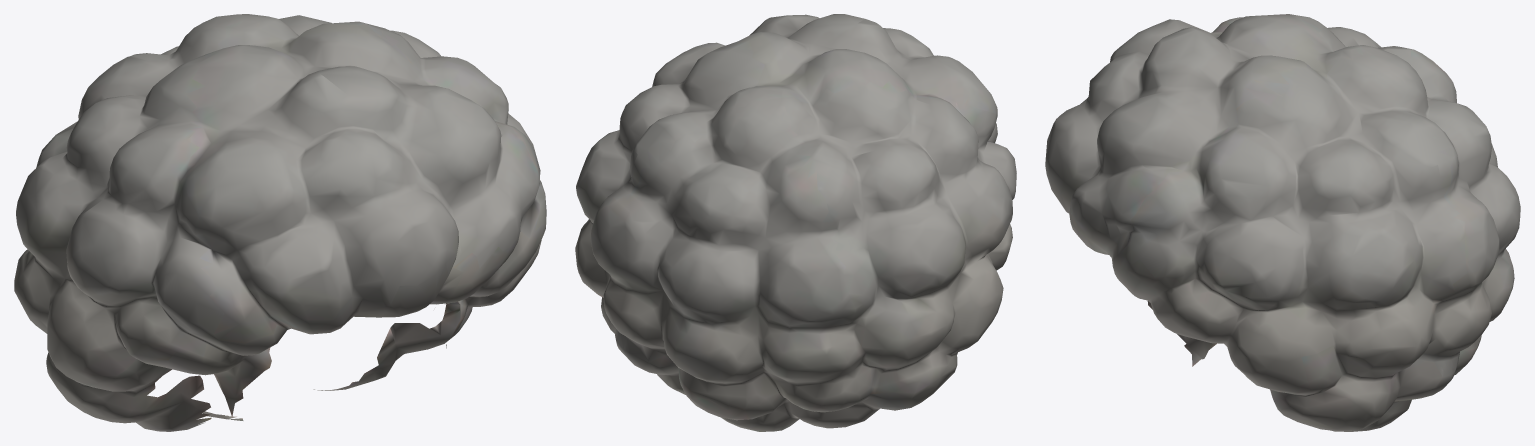
Rendered from hair-m-afro.glb.
The picture shows the model from 3 angles, left to right: view 1: azimuth 30°, elevation 25°; view 2: azimuth 150°, elevation 25°; view 3: azimuth 270°, elevation 25°; orthographic projection. The views are drawn at different scales.
Parts seen in each view (by area): view 1: hair-m-afro; view 2: hair-m-afro; view 3: hair-m-afro.
Boxes of the visible parts, left/top/right/bottom form: hair-m-afro: left=14, top=14, right=546, bottom=431; hair-m-afro: left=575, top=14, right=1016, bottom=431; hair-m-afro: left=1045, top=14, right=1520, bottom=431.
Bounding box in the file's own units: 1.51 × 1.3 × 1.52.
Materials: 1 (1 with a texture image).
